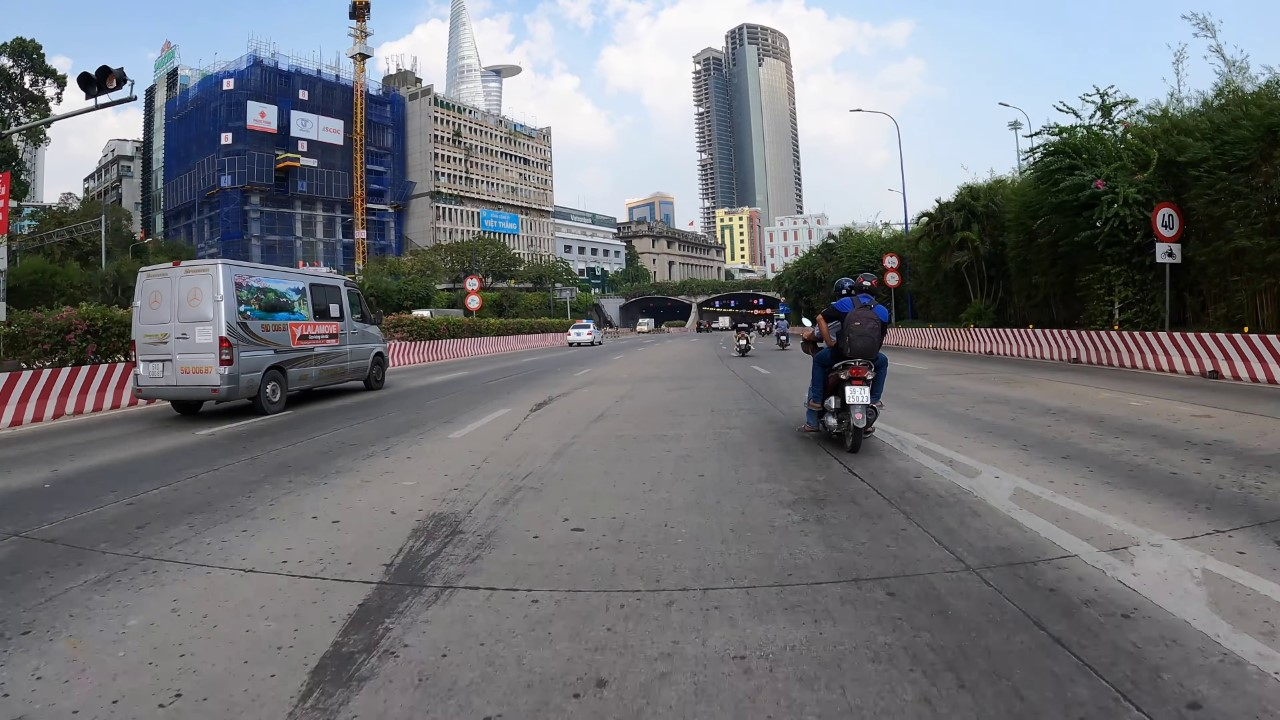gioi_han_40km: (1147, 198, 1187, 243)
